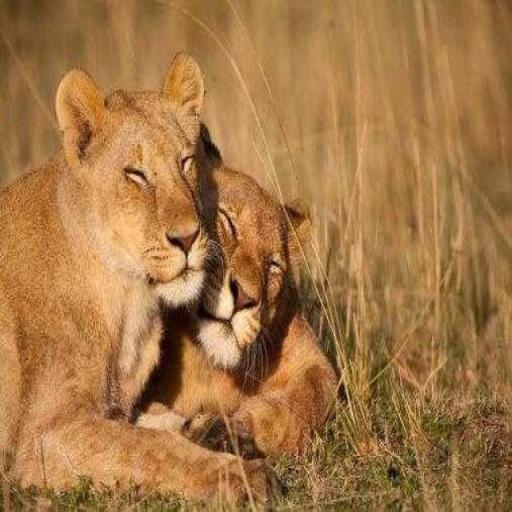Lion: (0, 51, 282, 508), (135, 123, 346, 462)
